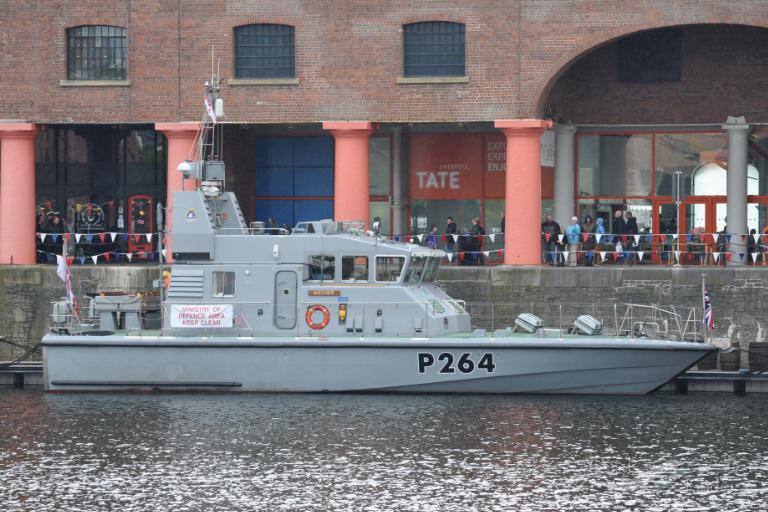OCR: (411, 345, 503, 382)
